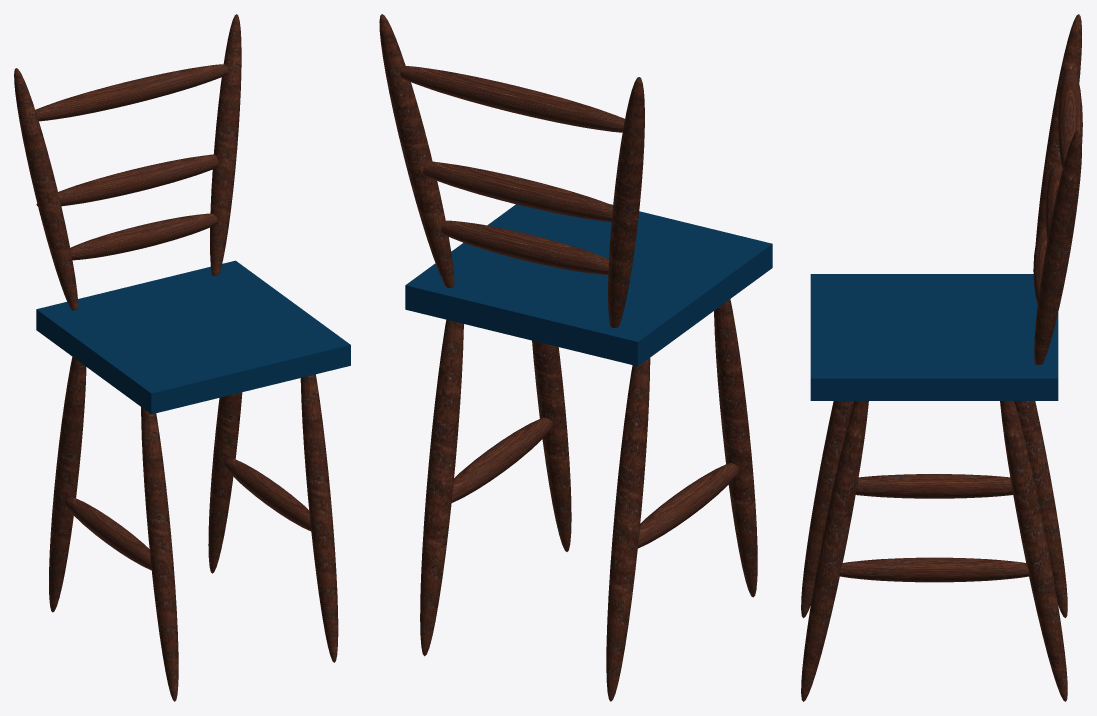
Rendered from silla.obj.
3 renders of one model, left to right at view 1: azimuth 30°, elevation 25°; view 2: azimuth 150°, elevation 25°; view 3: azimuth 270°, elevation 25°, orthographic. The views are drawn at different scales.
Parts seen in each view (by area): view 1: pCube2; view 2: pCube2; view 3: pCube2.
Boxes of the visible parts, x1=… form: pCube2: x1=14, y1=14, x2=350, y2=701; pCube2: x1=379, y1=14, x2=772, y2=701; pCube2: x1=801, y1=14, x2=1082, y2=701.
Size of the model in its own units: 226 by 525 by 228.
Materials: 2 (2 with a texture image).
